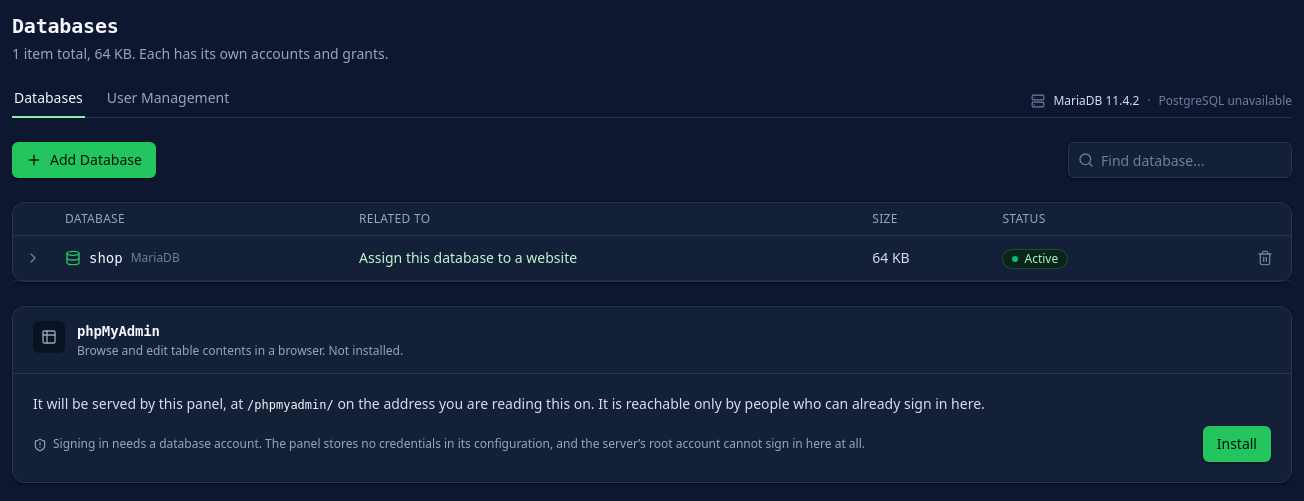
Test: DatabasesPage › fetches the password only when Show is pressed
Expected: the button "shop" is shown, [89,248,123,268]
Click the tab "User Management" at (168, 103), box [105,88,231,118]
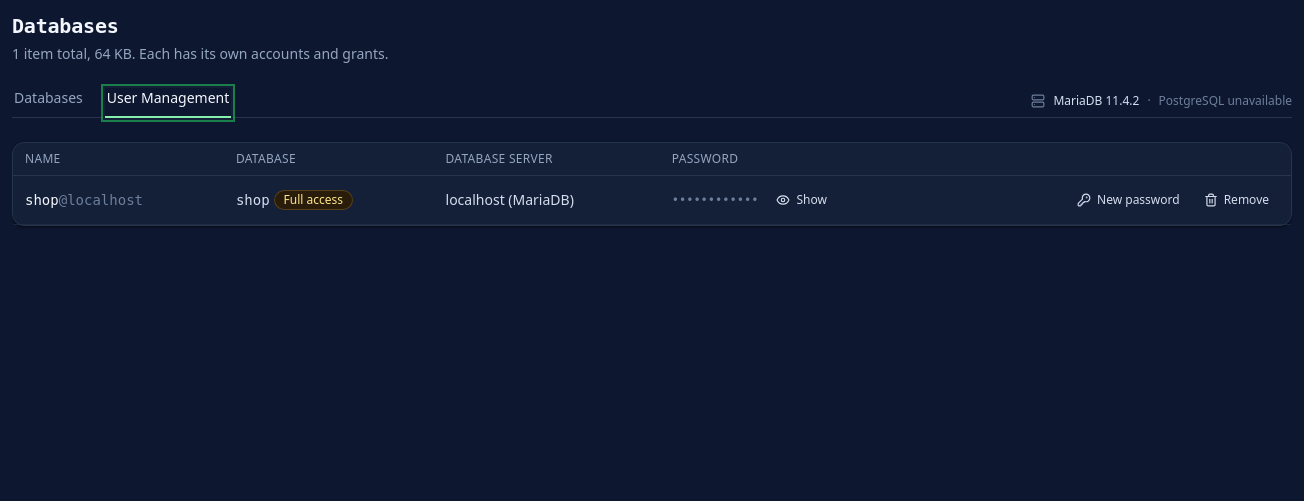
Click the button "Show" at (802, 200), box [766,184,837,216]
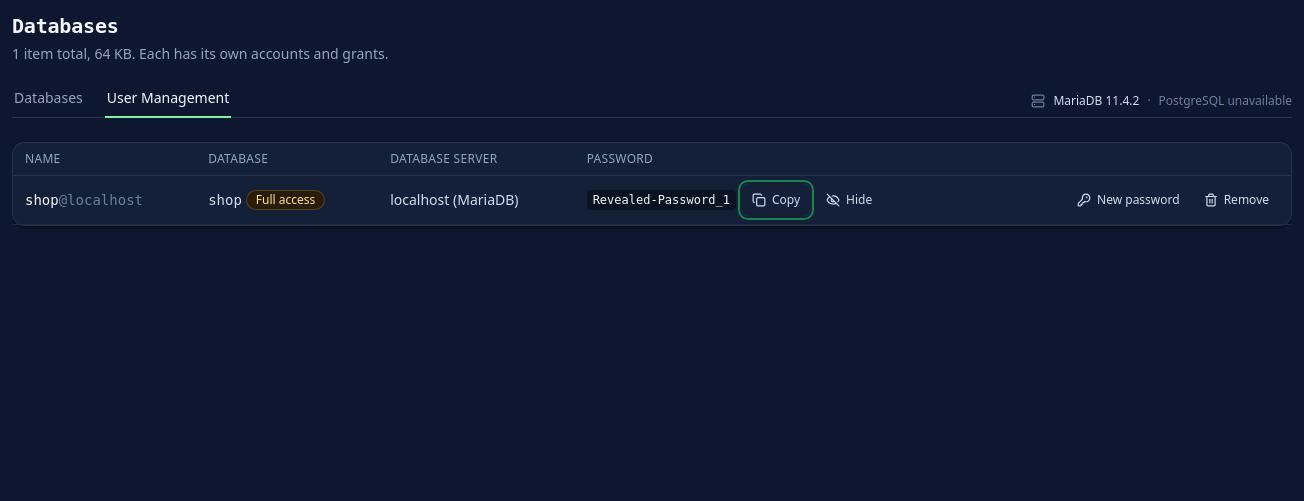
Expected: the text "Revealed-Password_1" is shown, [587,190,736,210]
